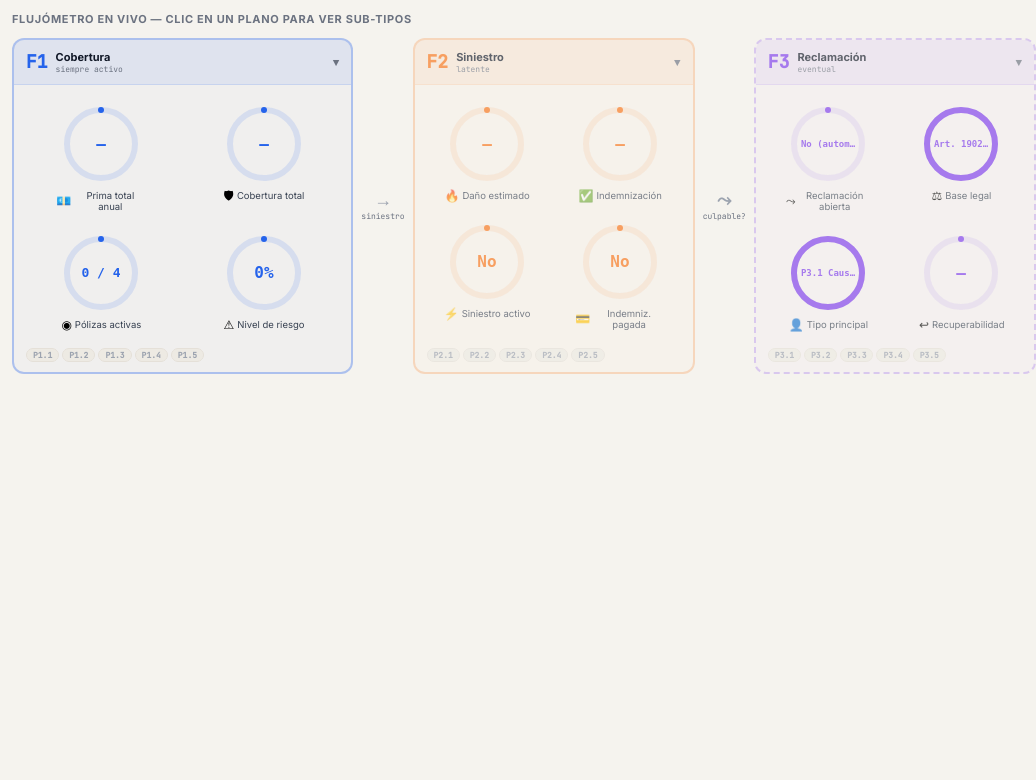
Test: PhenomenonIIIFlowGraph — phase expand/collapse › clicking the card header clears the active metric detail panel
// Open a metric detail panel
Click the text "Prima total anual" at point(110, 201), box [86,190,134,212]
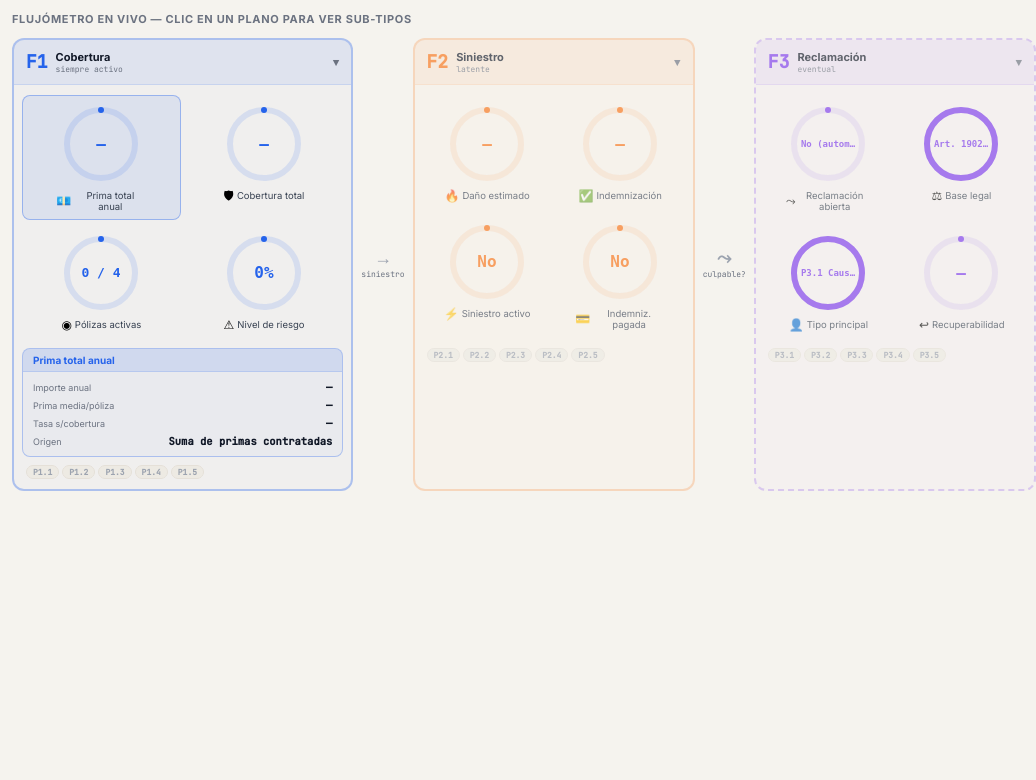
// Click the card header (Cobertura) — should clear the metric panel
Click the text "Cobertura" at point(83, 57), box [56,50,110,64]
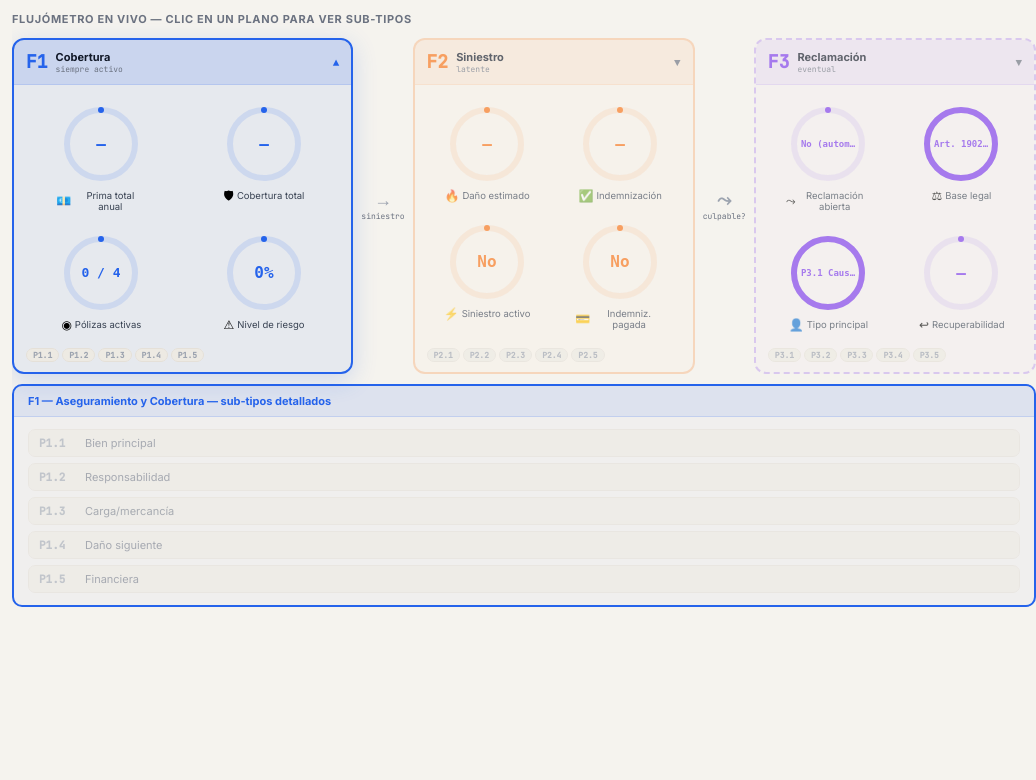
Result: the text "Prima total anual" is shown once at [86,190,134,212]
Result: the text "F1 — Aseguramiento y Cobertura — sub-tipos detallados" is shown at [14,386,1034,417]
